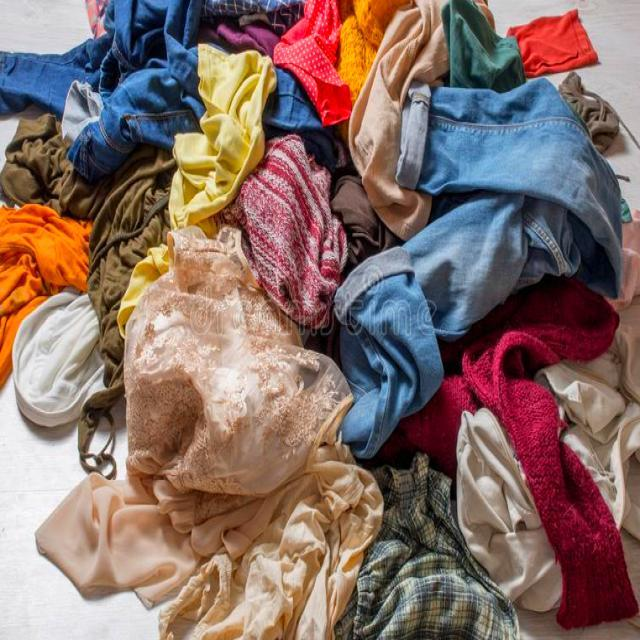clothes: (336, 64, 639, 431), (118, 235, 378, 640), (391, 284, 640, 622), (3, 0, 221, 204), (164, 29, 286, 242), (227, 138, 359, 320), (0, 204, 95, 389), (6, 290, 105, 436), (319, 0, 416, 120)
